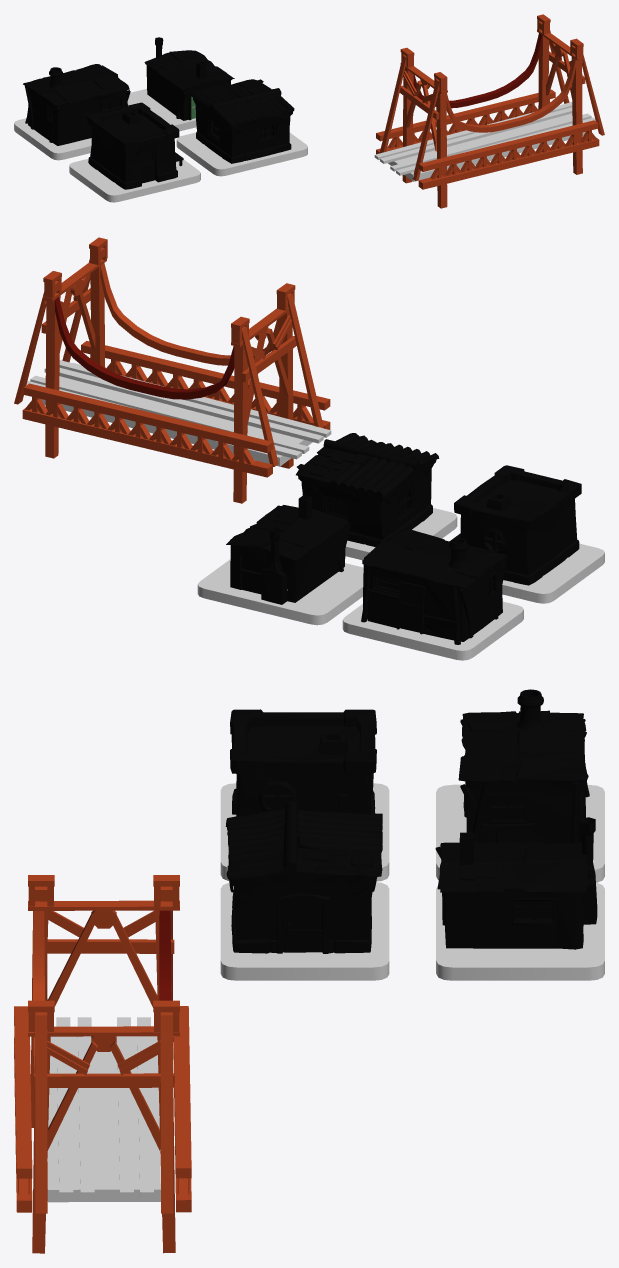
File: cabuz_m.fbx
3 renders of one model, top to bottom at view 1: azimuth 30°, elevation 25°; view 2: azimuth 150°, elevation 25°; view 3: azimuth 270°, elevation 25°, orthographic. The views are drawn at different scales.
Parts seen in each view (by area): view 1: cabuz_m; view 2: cabuz_m; view 3: cabuz_m.
Boxes of the visible parts, x1,y1,x2,y2 form: cabuz_m: (14, 14, 604, 208); cabuz_m: (14, 237, 604, 660); cabuz_m: (14, 689, 604, 1253).
Bounding box in the file's own units: 3315 × 930 × 2019.
